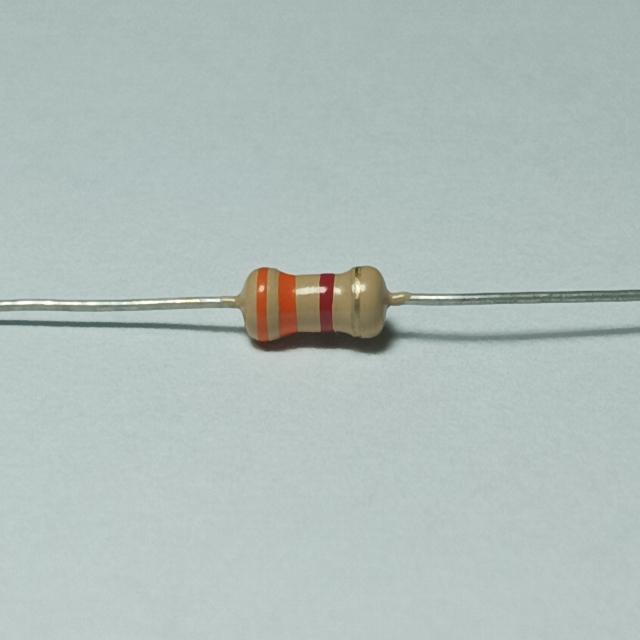3.3k ohms: (220, 242, 418, 370)
